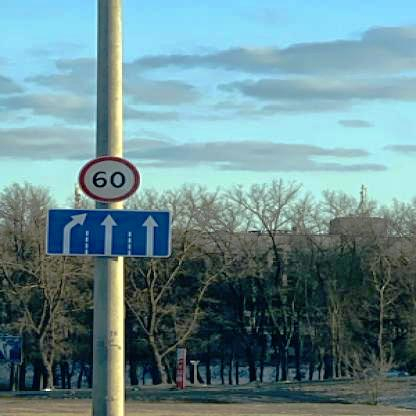Speed Limit -60-: (78, 156, 142, 204)
